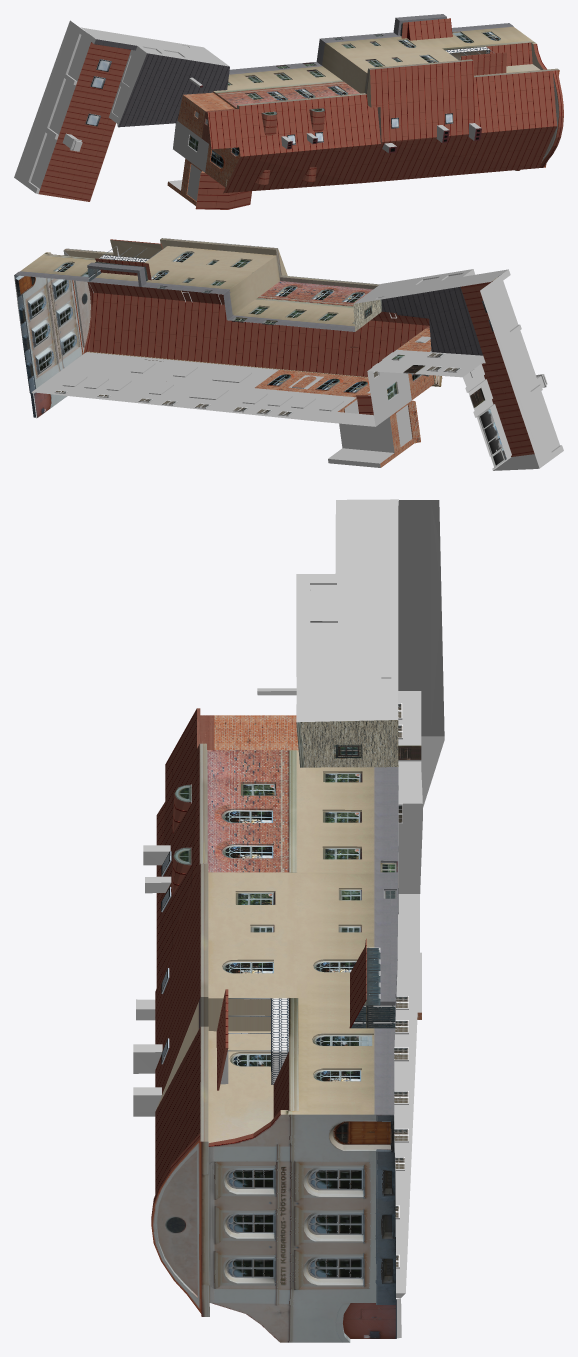
The model's file is Toom-Kooli_17.obj.
3 views of the same model, one above another, from view 1: azimuth 30°, elevation 25°; view 2: azimuth 150°, elevation 25°; view 3: azimuth 270°, elevation 25° (orthographic). The views are drawn at different scales.
Parts seen in each view (by area): view 1: Toom_Kooli_17; view 2: Toom_Kooli_17; view 3: Toom_Kooli_17.
Part boxes in pixels (left/top/right/bottom): Toom_Kooli_17: left=14, top=14, right=563, bottom=209; Toom_Kooli_17: left=14, top=238, right=563, bottom=470; Toom_Kooli_17: left=133, top=499, right=444, bottom=1342.
Size of the model in its own units: 64.76 by 28.3 by 18.01.
